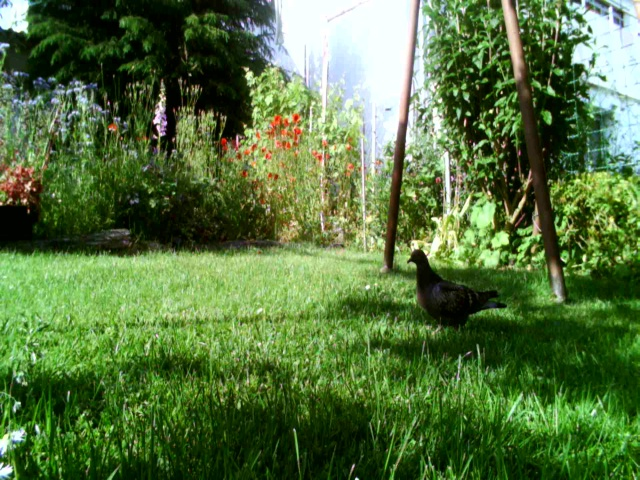Pigeon: (402, 242, 512, 341)
